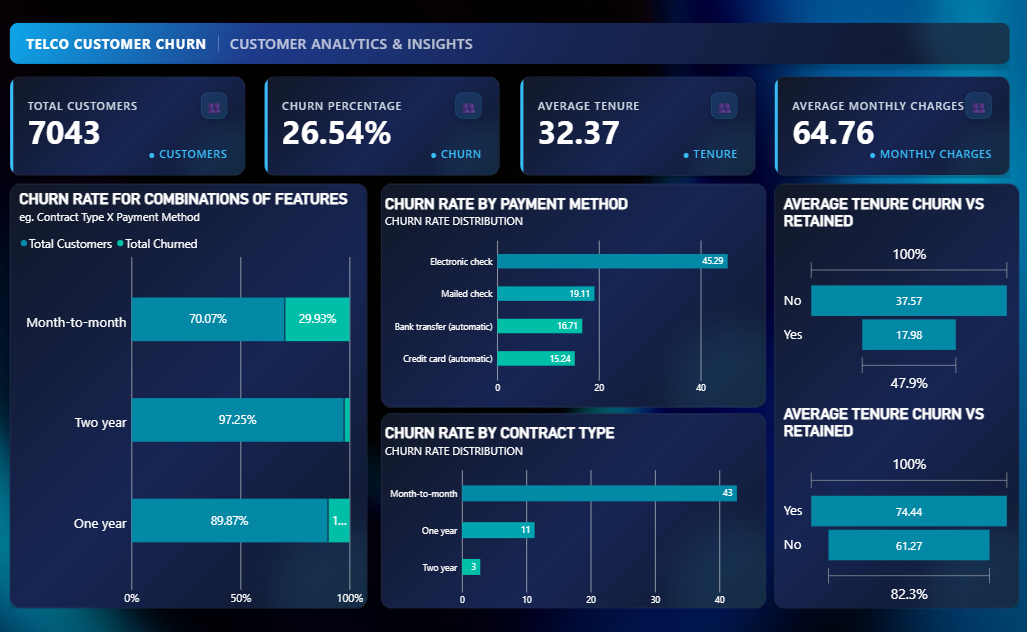

The page's visual inventory and layout, read from the dashboard file:
{"tool":"powerbi","page":{"name":"Page 1","canvas":[1920,1150],"ordinal":1},"visuals":[{"type":"image","box":[0,0,1920,1150],"z":0},{"type":"htmlContent443BE3AD55E043BF878BED274D3A6855","fields":{"content":["MeasuresHTML.Total_Customers_Card1"]},"box":[52.5,125,460,215],"z":1000},{"type":"htmlContent443BE3AD55E043BF878BED274D3A6855","fields":{"content":["MeasuresHTML.ChurnPercentage"]},"box":[515.8,125,460,215],"z":2000},{"type":"htmlContent443BE3AD55E043BF878BED274D3A6855","fields":{"content":["MeasuresHTML.AvgTenrueCard"]},"box":[979.2,125,460,215],"z":3000},{"type":"htmlContent443BE3AD55E043BF878BED274D3A6855","fields":{"content":["MeasuresHTML.AvgMonthlyCharges"]},"box":[1442.5,125,460,215],"z":4000},{"type":"htmlContent443BE3AD55E043BF878BED274D3A6855","fields":{"content":["MeasuresHTML.Navigation_Bar"]},"box":[52.5,27.5,1850,117.5],"z":5000},{"type":"htmlContent443BE3AD55E043BF878BED274D3A6855","fields":{"content":["MeasuresHTML.Pie_Chart_Background"]},"box":[52.5,320,682.5,802.5],"z":6000},{"type":"htmlContent443BE3AD55E043BF878BED274D3A6855","fields":{"content":["MeasuresHTML.Pie_Chart_Background"]},"box":[727.5,320,732.5,437.5],"z":7000},{"type":"clusteredBarChart","title":"CHURN RATE BY PAYMENT METHOD","fields":{"Category":["PaymentMethodChurn.PaymentMethod"],"Y":["Sum(PaymentMethodChurn.ChurnRate)"]},"box":[735,340,707.5,397.5],"z":8000},{"type":"htmlContent443BE3AD55E043BF878BED274D3A6855","fields":{"content":["MeasuresHTML.Pie_Chart_Background"]},"box":[727.5,737.5,732.5,385],"z":9000},{"type":"clusteredBarChart","title":"CHURN RATE BY CONTRACT TYPE","fields":{"Category":["Contract Type.Contract"],"Y":["Sum(Contract Type.ChurnRate)"]},"box":[735,757.5,707.5,365],"z":10000},{"type":"hundredPercentStackedBarChart","title":"CHURN RATE FOR COMBINATIONS OF FEATURES","fields":{"Category":["Query.Contract","Query.PaymentMethod"],"Y":["Sum(Query.TotalCustomers)","Sum(Query.Churned)"]},"box":[70,332.5,657.5,790],"z":11000},{"type":"htmlContent443BE3AD55E043BF878BED274D3A6855","fields":{"content":["MeasuresHTML.Pie_Chart_Background"]},"box":[1442.5,320,477.5,802.5],"z":12000},{"type":"funnel","title":"AVERAGE TENURE CHURN VS RETAINED","fields":{"Category":["AvgTenure Churned VS Retained.Churn"],"Y":["Sum(AvgTenure Churned VS Retained.AverageTenrue)"]},"box":[1460,340,442.5,397.5],"z":13000},{"type":"funnel","title":"AVERAGE TENURE CHURN VS RETAINED","fields":{"Category":["AvgTenure Churned VS Retained.Churn"],"Y":["Sum(AverageMonthlyChargeD Churned VS Retained.AverageMonthlyCharge)"]},"box":[1460,722.5,442.5,397.5],"z":13001}]}

Visuals, with their boxes in screenshot pixels (x1, y1, x2, y2), scaled from the page's 1920x1150 canvas onto the 1027x632 screenshot:
image: 0,0,1026,631
htmlContent443BE3AD55E043BF878BED274D3A6855 - MeasuresHTML.Total_Customers_Card1: 28,69,274,187
htmlContent443BE3AD55E043BF878BED274D3A6855 - MeasuresHTML.ChurnPercentage: 276,69,522,187
htmlContent443BE3AD55E043BF878BED274D3A6855 - MeasuresHTML.AvgTenrueCard: 524,69,770,187
htmlContent443BE3AD55E043BF878BED274D3A6855 - MeasuresHTML.AvgMonthlyCharges: 772,69,1018,187
htmlContent443BE3AD55E043BF878BED274D3A6855 - MeasuresHTML.Navigation_Bar: 28,15,1018,80
htmlContent443BE3AD55E043BF878BED274D3A6855 - MeasuresHTML.Pie_Chart_Background: 28,176,393,617
htmlContent443BE3AD55E043BF878BED274D3A6855 - MeasuresHTML.Pie_Chart_Background: 389,176,781,416
"CHURN RATE BY PAYMENT METHOD" clusteredBarChart: 393,187,772,405
htmlContent443BE3AD55E043BF878BED274D3A6855 - MeasuresHTML.Pie_Chart_Background: 389,405,781,617
"CHURN RATE BY CONTRACT TYPE" clusteredBarChart: 393,416,772,617
"CHURN RATE FOR COMBINATIONS OF FEATURES" hundredPercentStackedBarChart: 37,183,389,617
htmlContent443BE3AD55E043BF878BED274D3A6855 - MeasuresHTML.Pie_Chart_Background: 772,176,1026,617
"AVERAGE TENURE CHURN VS RETAINED" funnel: 781,187,1018,405
"AVERAGE TENURE CHURN VS RETAINED" funnel: 781,397,1018,616
